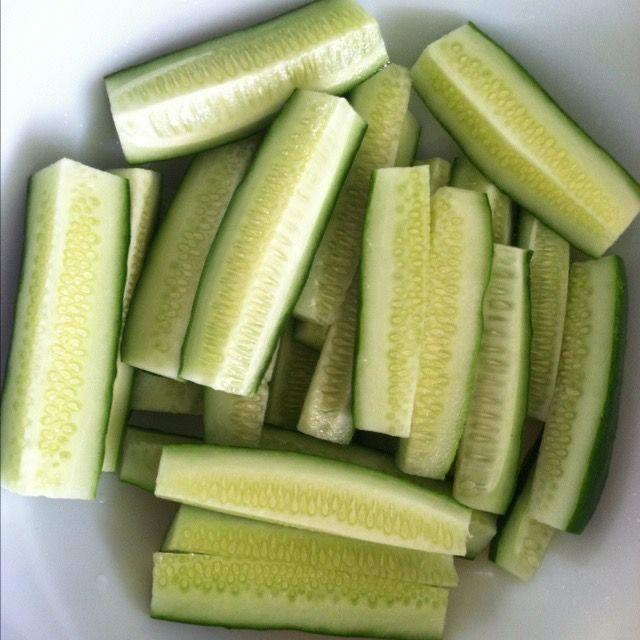cucumber sliced: (179, 90, 365, 394), (412, 24, 639, 255), (105, 0, 387, 162), (0, 159, 129, 498), (156, 445, 469, 554), (122, 138, 258, 378), (295, 64, 410, 325), (396, 187, 492, 477), (530, 256, 625, 532), (151, 553, 447, 639), (162, 505, 457, 586), (453, 244, 530, 513), (353, 166, 429, 436), (258, 425, 451, 495), (258, 425, 450, 495), (518, 211, 569, 420), (297, 276, 357, 443), (111, 168, 160, 322), (489, 467, 554, 580), (258, 425, 400, 474), (265, 324, 318, 429), (450, 156, 513, 244), (119, 426, 195, 491), (203, 381, 268, 446), (130, 370, 202, 415), (465, 509, 496, 558), (395, 111, 421, 166), (414, 157, 450, 195), (353, 430, 399, 454), (293, 320, 327, 350)
